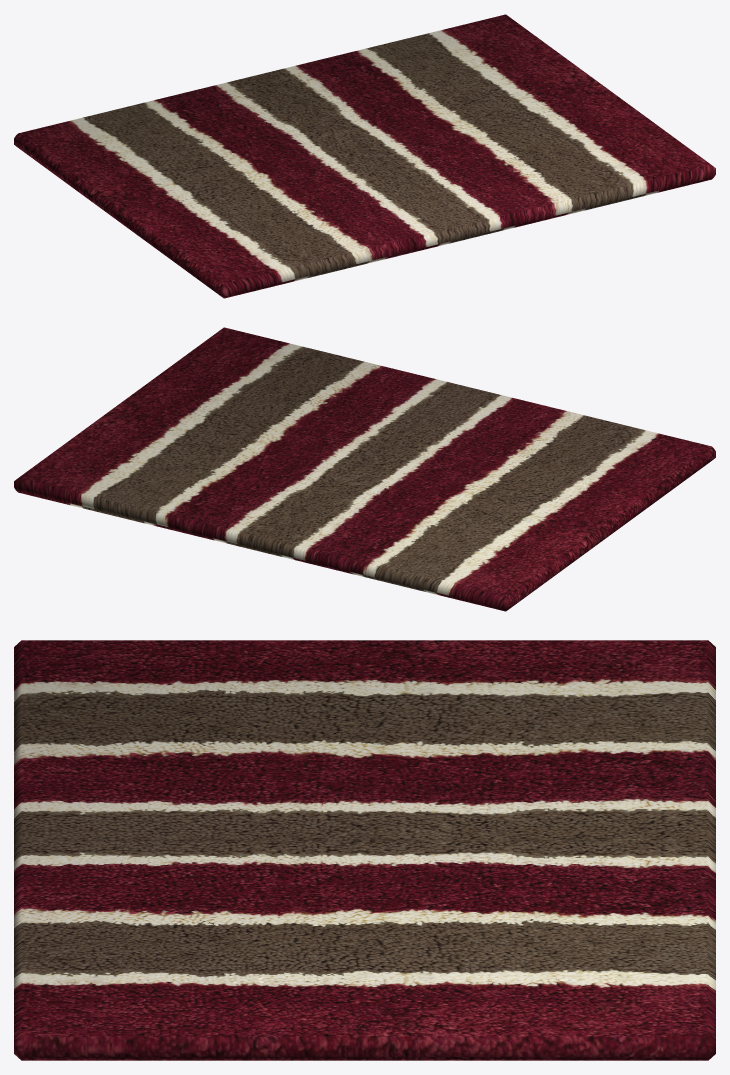
Rendered from Bathroom-Rug.FBX.
3 renders of one model, top to bottom at view 1: azimuth 30°, elevation 25°; view 2: azimuth 150°, elevation 25°; view 3: azimuth 270°, elevation 25°, orthographic. The views are drawn at different scales.
Parts seen in each view (by area): view 1: Bath-rug; view 2: Bath-rug; view 3: Bath-rug.
Part boxes in pixels (x1=…): Bath-rug: x1=14, y1=14, x2=715, y2=298; Bath-rug: x1=14, y1=327, x2=715, y2=611; Bath-rug: x1=14, y1=640, x2=715, y2=1060.
Size of the model in its own units: 21.01 by 0.5807 by 15.46.
Materials: 1 (1 with a texture image).
